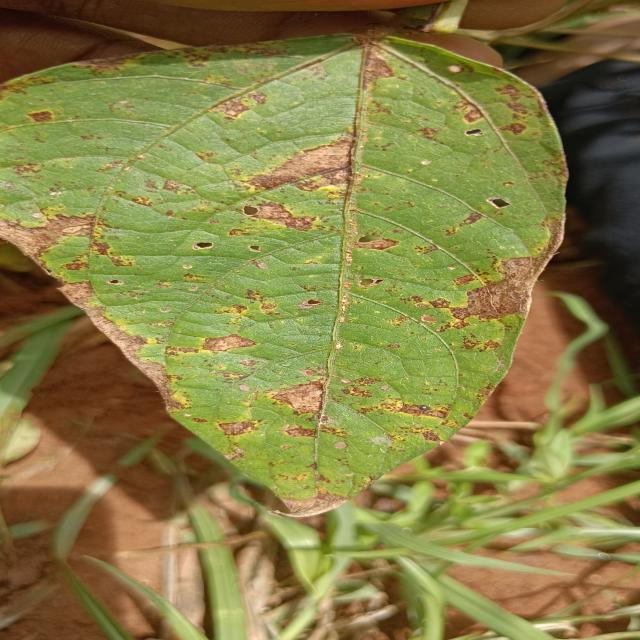Black gram_leaf spot: (0, 27, 582, 520)
